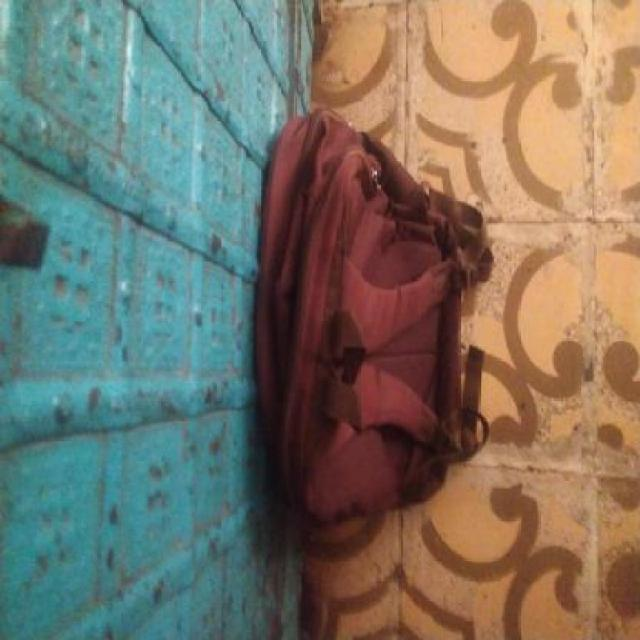backpack: (249, 103, 497, 531)
